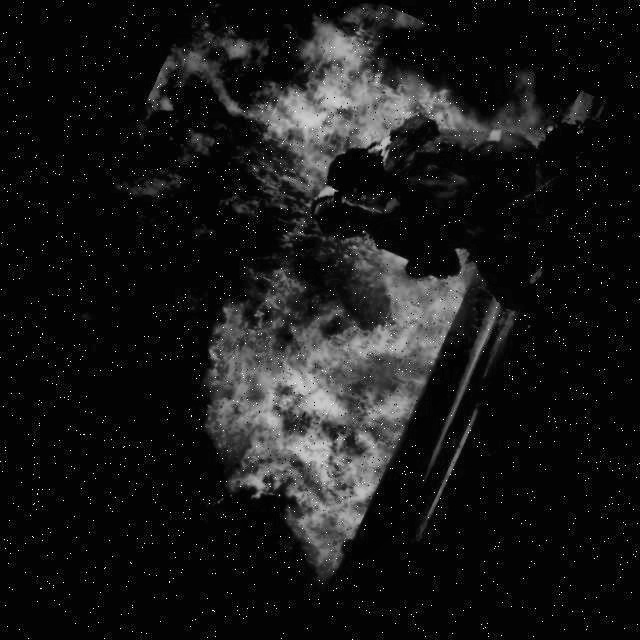Fire: (127, 207, 467, 590), (227, 3, 402, 198)
